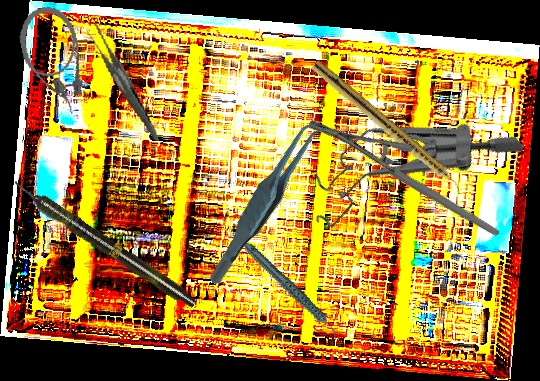Cannula: (14, 1, 91, 121)
Dressing Forceps: (85, 15, 159, 151)
Handpiece: (9, 174, 200, 313), (308, 59, 468, 197), (238, 222, 341, 356)
Needle Holder: (305, 73, 500, 284)
Speculum: (289, 54, 527, 287)
Tissue Forceps: (178, 113, 355, 288)
